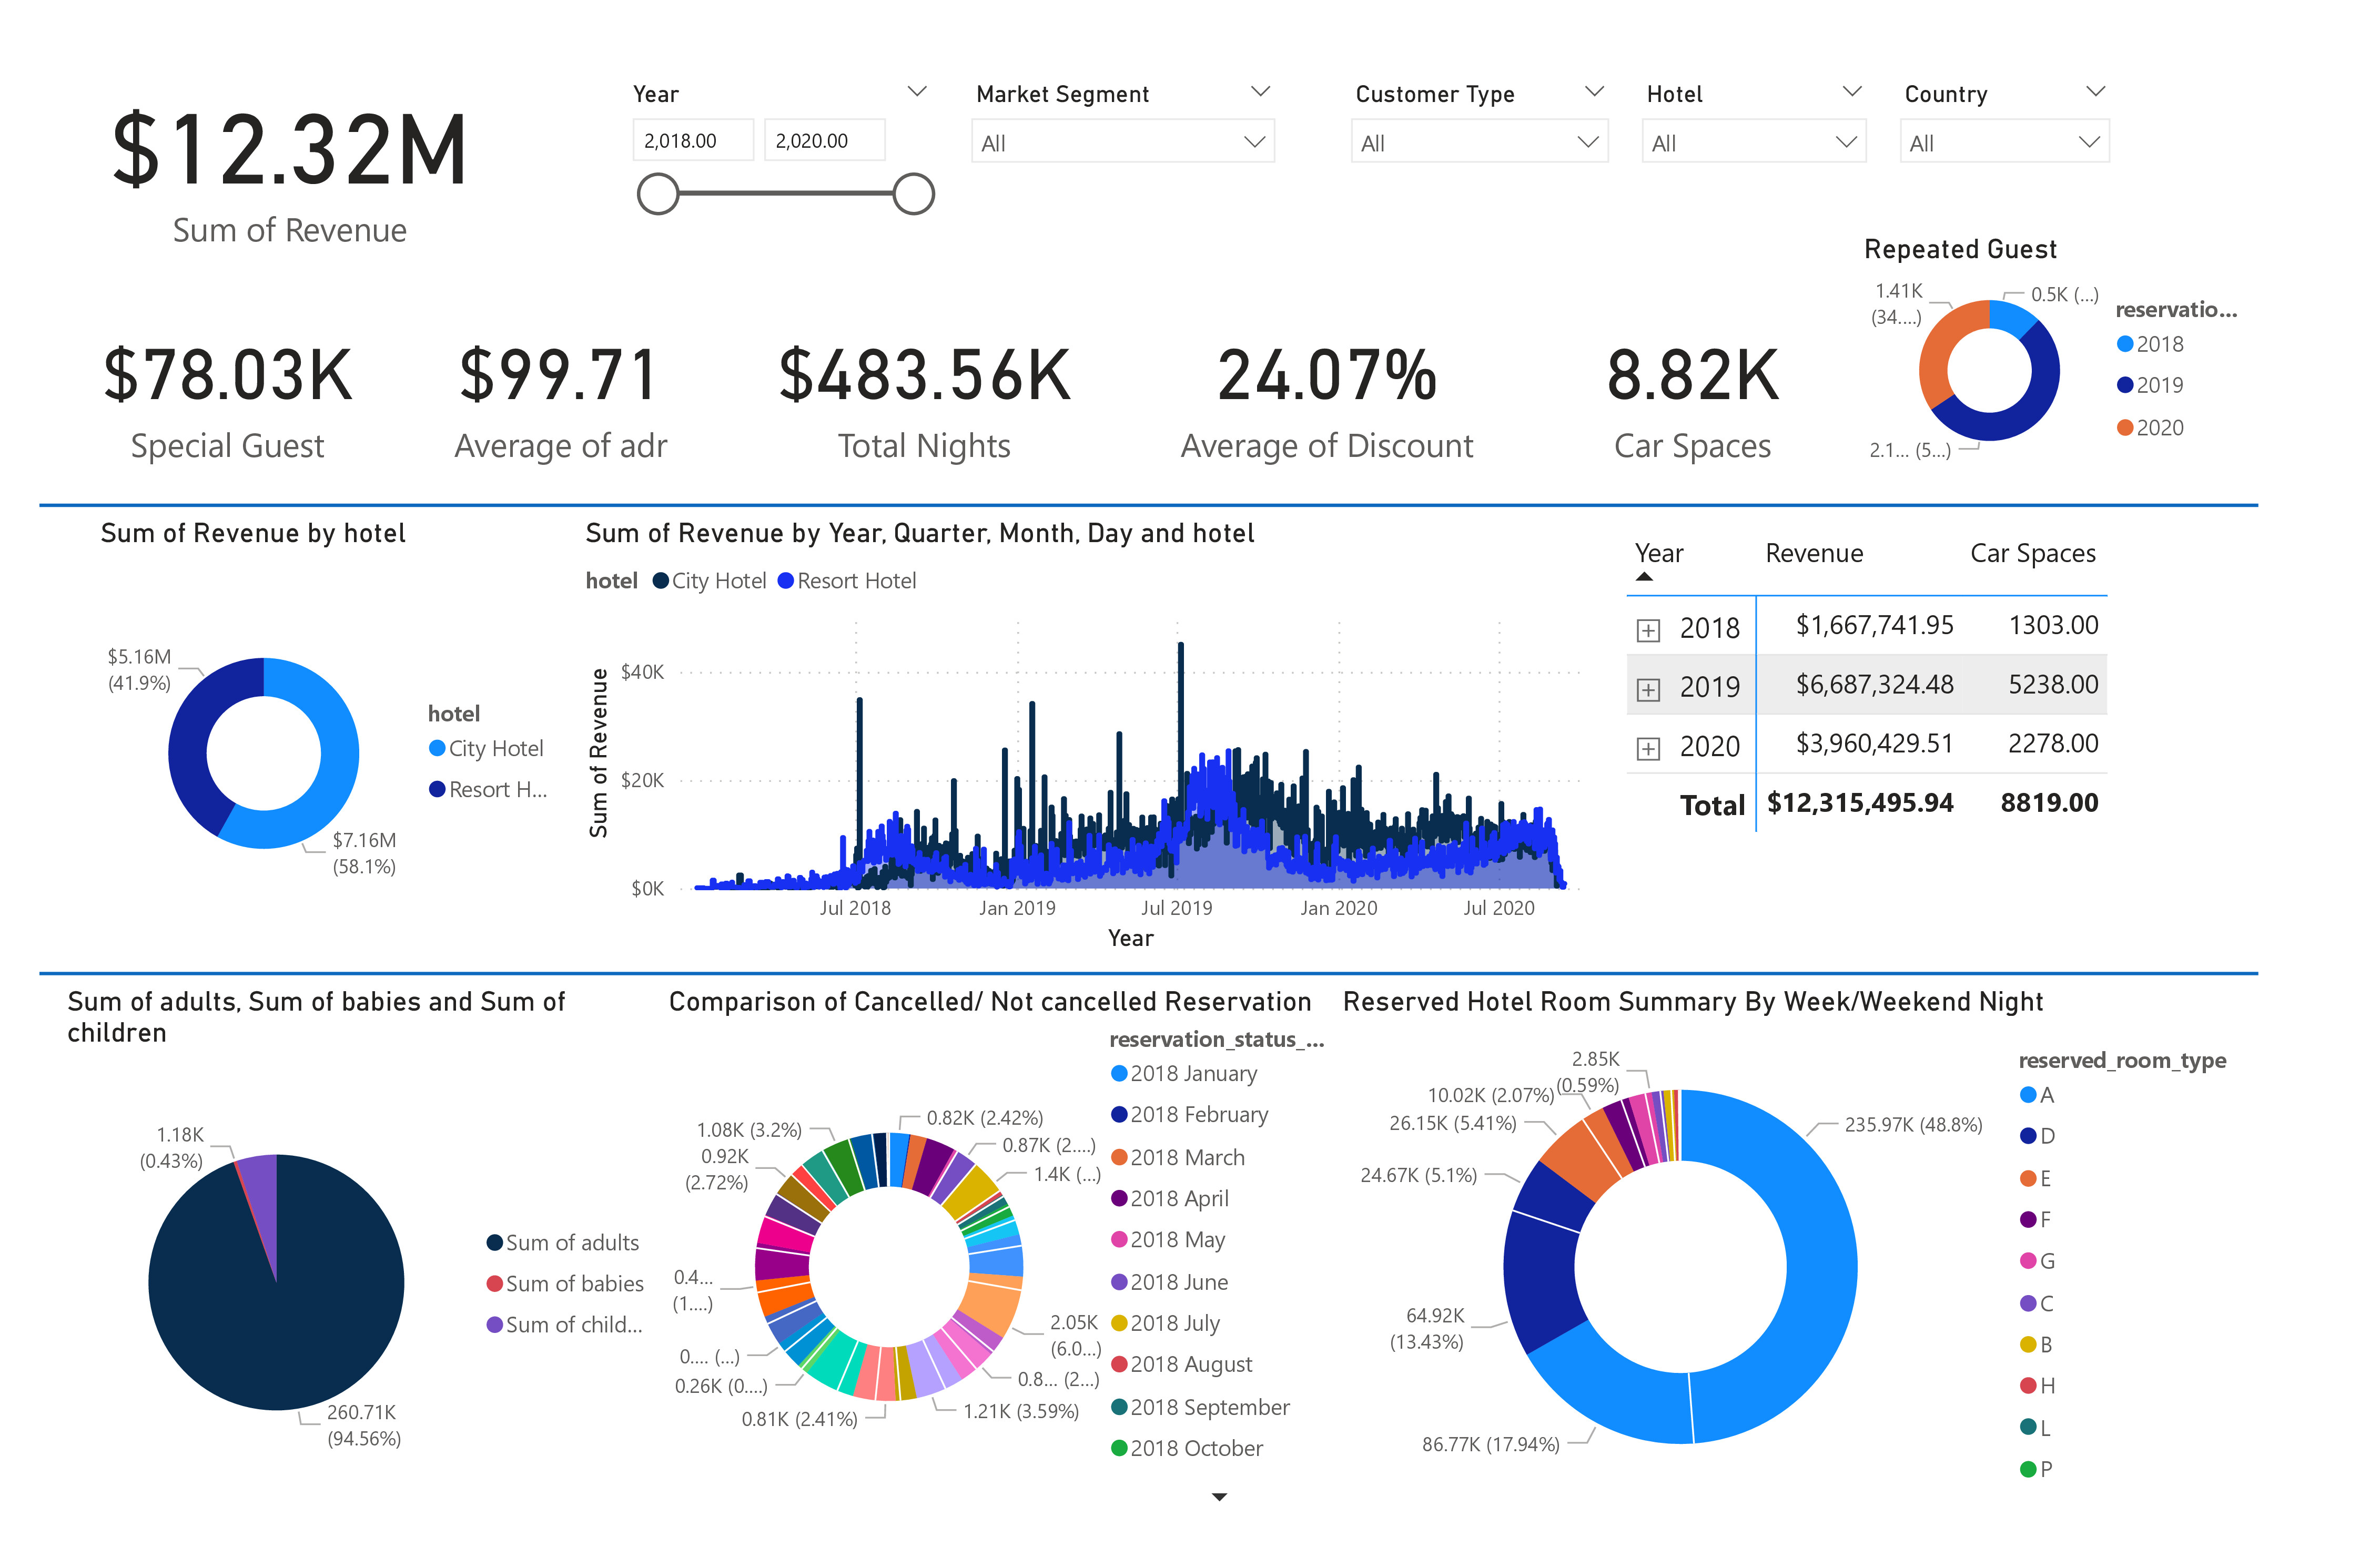

Layout of this report page (visuals, bound fields, positions):
{"tool":"powerbi","page":{"name":"Page 1","canvas":[1400,900],"ordinal":0},"visuals":[{"type":"shape","box":[0,276.7,1350,13.3],"z":0},{"type":"shape","box":[0,561.7,1350,13.3],"z":1000},{"type":"card","fields":{"Values":["Sum(Query1.Revenue)"]},"box":[11.7,6.7,281.7,130],"z":2000},{"type":"card","fields":{"Values":["Avg(Query1.adr)"]},"box":[216.7,158.3,200,108.3],"z":3000},{"type":"card","fields":{"Values":["Query1.Total Nights"]},"box":[416.7,158.3,243.3,108.3],"z":4000},{"type":"card","fields":{"Values":["Avg(Query1.Discount)"]},"box":[660,158.3,246.7,108.3],"z":5000},{"type":"areaChart","fields":{"Category":["Query1.reservation_status_date.Variation.Date Hierarchy.Year","Query1.reservation_status_date.Variation.Date Hierarchy.Quarter","Query1.reservation_status_date.Variation.Date Hierarchy.Month","Query1.reservation_status_date.Variation.Date Hierarchy.Day"],"Y":["Sum(Query1.Revenue)"],"Series":["Query1.hotel"]},"box":[326.7,290,628.3,270],"z":6000},{"type":"slicer","fields":{"Values":["Query1.country"]},"box":[1121.7,20,148.3,66.7],"z":7000},{"type":"slicer","fields":{"Values":["Query1.hotel"]},"box":[965,20,156.7,66.7],"z":8000},{"type":"card","fields":{"Values":["Sum(Query1.required_car_parking_spaces)"]},"box":[906.7,158.3,198.3,108.3],"z":9000},{"type":"donutChart","fields":{"Y":["Sum(Query1.Revenue)"],"Category":["Query1.hotel"]},"box":[31.7,290,295,270],"z":10000},{"type":"pivotTable","fields":{"Rows":["Query1.reservation_status_date.Variation.Date Hierarchy.Year","Query1.hotel"],"Values":["Sum(Query1.Revenue)","Sum(Query1.required_car_parking_spaces)"]},"box":[961,290,388,270],"z":10001},{"type":"slicer","fields":{"Values":["Query1.customer_type"]},"box":[788.3,20,176.7,75],"z":10002},{"type":"slicer","fields":{"Values":["Query1.market_segment"]},"box":[556.7,20,205,66.7],"z":10003},{"type":"card","fields":{"Values":["Sum(Query1.total_of_special_requests)"]},"box":[11.7,158.3,205,108.3],"z":10004},{"type":"slicer","fields":{"Values":["Query1.arrival_date_year"]},"box":[348.3,20,205,156.7],"z":10007},{"type":"pieChart","fields":{"Y":["Sum(Query1.adults)","Sum(Query1.babies)","Sum(Query1.children)"]},"box":[11.7,575,373.3,325],"z":10008},{"type":"donutChart","title":"Comparison of Cancelled/ Not cancelled Reservation","fields":{"Category":["Query1.reservation_status_date.Variation.Date Hierarchy.Year","Query1.reservation_status_date.Variation.Date Hierarchy.Month"],"Y":["Sum(Query1.previous_bookings_not_canceled)","Sum(Query1.previous_cancellations)"]},"box":[378.3,575,410,325],"z":10009},{"type":"donutChart","title":"Reserved Hotel Room Summary By Week/Weekend Night ","fields":{"Category":["Query1.reserved_room_type"],"Y":["Sum(Query1.stays_in_week_nights)","Sum(Query1.stays_in_weekend_nights)"]},"box":[788,575,562,325],"z":10010},{"type":"donutChart","title":"Repeated Guest","fields":{"Y":["Sum(Query1.is_repeated_guest)"],"Category":["Query1.reservation_status_date.Variation.Date Hierarchy.Year"]},"box":[1105,116.7,245,150],"z":10011}]}

Visuals, with their boxes in screenshot pixels (x1, y1, x2, y2):
shape: [39,494,2259,516]
shape: [39,963,2259,984]
card - Sum(Query1.Revenue): [59,50,522,264]
card - Avg(Query1.adr): [396,300,724,477]
card - Query1.Total Nights: [724,300,1125,477]
card - Avg(Query1.Discount): [1125,300,1530,477]
areaChart - Query1.reservation_status_date.Variation.Date Hierarchy.Year x Query1.reservation_status_date.Variation.Date Hierarchy.Quarter: [576,516,1609,960]
slicer - Query1.country: [1883,73,2127,182]
slicer - Query1.hotel: [1626,73,1883,182]
card - Sum(Query1.required_car_parking_spaces): [1530,300,1856,477]
donutChart - Sum(Query1.Revenue) x Query1.hotel: [92,516,576,960]
pivotTable - Query1.reservation_status_date.Variation.Date Hierarchy.Year x Query1.hotel: [1619,516,2257,960]
slicer - Query1.customer_type: [1335,73,1626,196]
slicer - Query1.market_segment: [955,73,1291,182]
card - Sum(Query1.total_of_special_requests): [59,300,396,477]
slicer - Query1.arrival_date_year: [612,73,949,330]
pieChart - Sum(Query1.adults) x Sum(Query1.babies): [59,984,672,1519]
"Comparison of Cancelled/ Not cancelled Reservation" donutChart: [661,984,1335,1519]
"Reserved Hotel Room Summary By Week/Weekend Night " donutChart: [1335,984,2259,1519]
"Repeated Guest" donutChart: [1856,231,2259,478]
